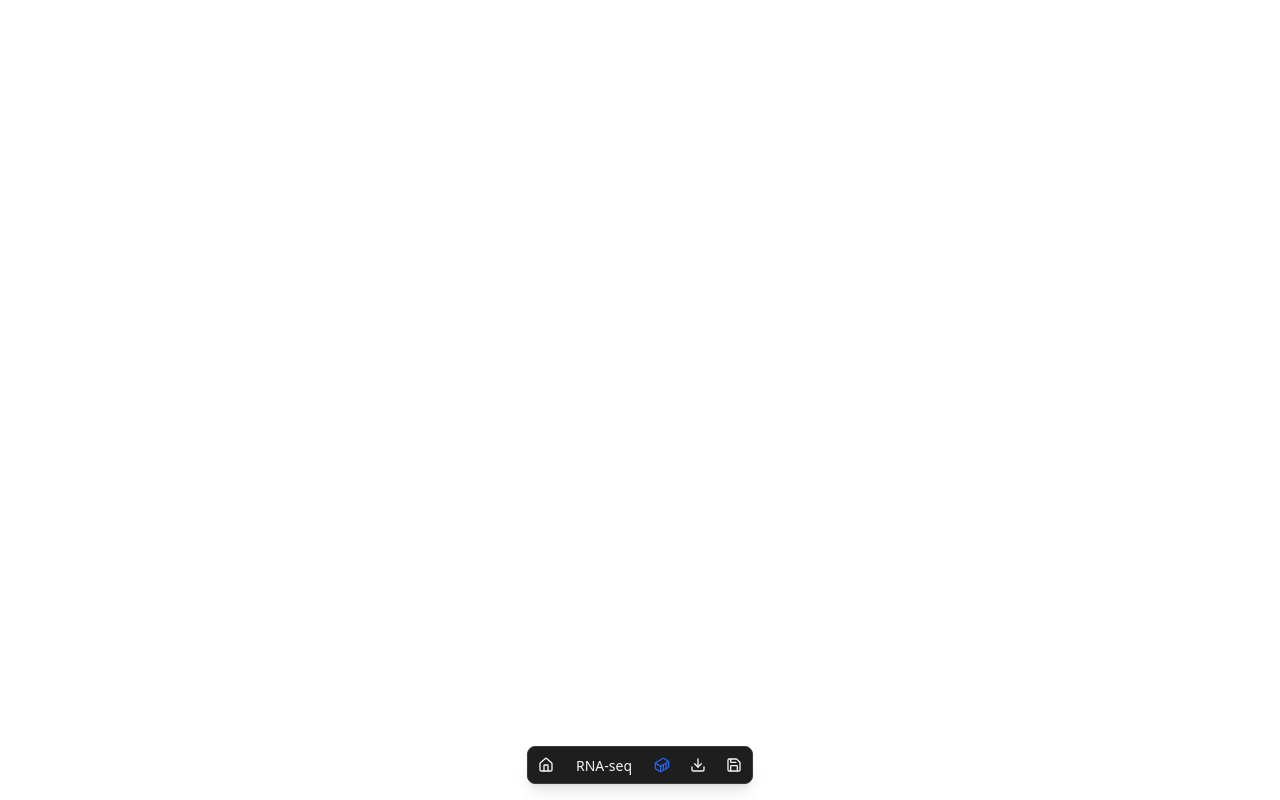
Test: BottomBar › settings dialog › closes without asking when nothing changed
Click the button named "Execution Settings": (662, 765) [648,751,676,779]
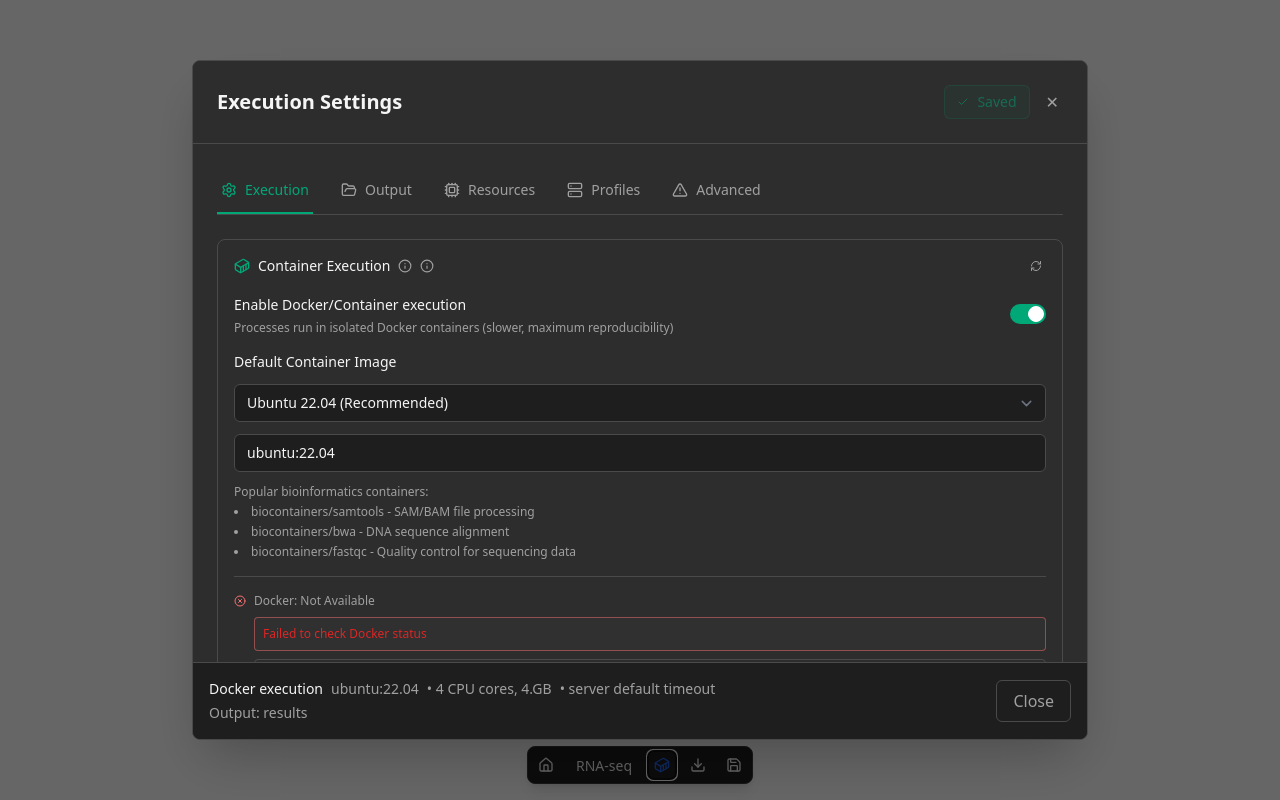
Expected: the button "Saved" is disabled, [944,85,1030,119]
Click the button "Close": (1034, 701) [996,680,1071,722]
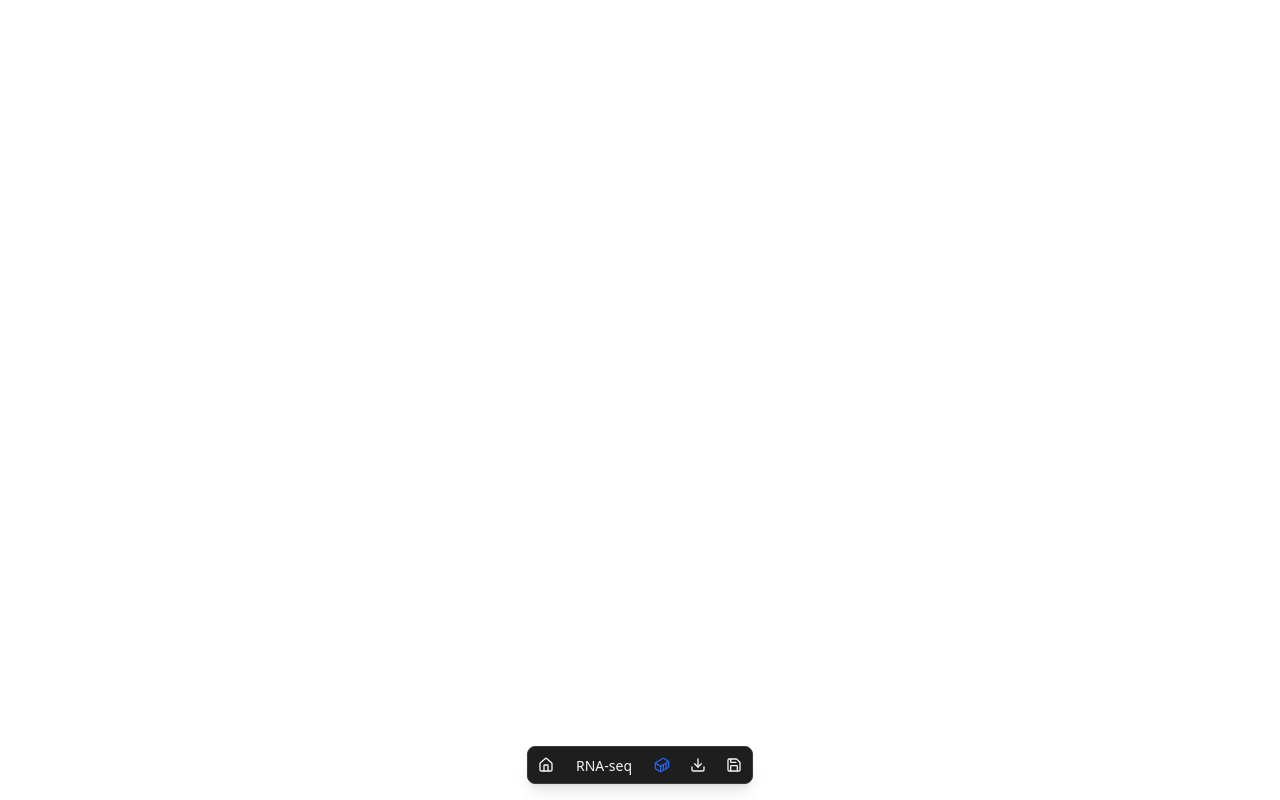
Expected: the heading "Execution Settings" is gone
